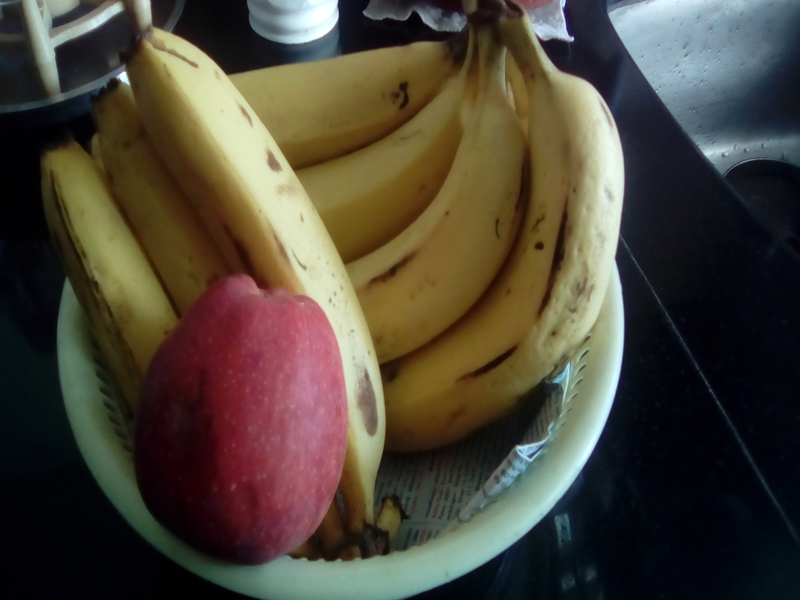banana: (125, 15, 355, 303), (535, 55, 675, 331), (382, 98, 527, 339), (406, 272, 601, 445), (21, 137, 166, 341), (228, 35, 468, 133)
